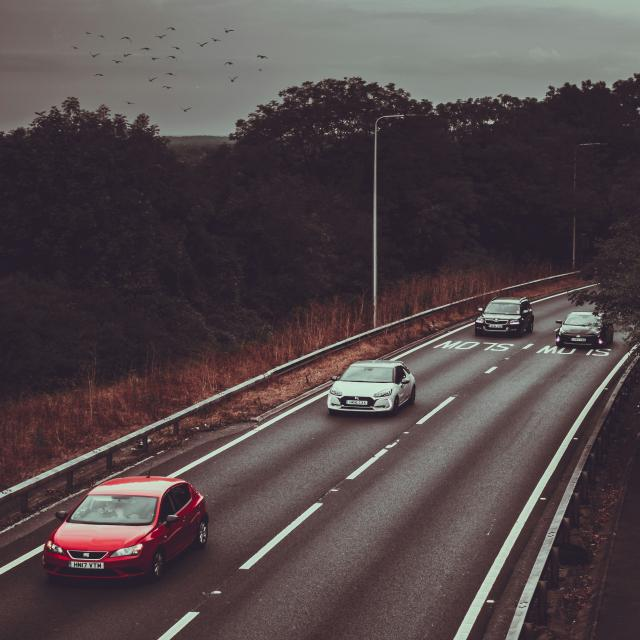Car: (41, 474, 209, 585), (326, 360, 416, 416), (474, 297, 534, 337), (554, 311, 614, 348)
